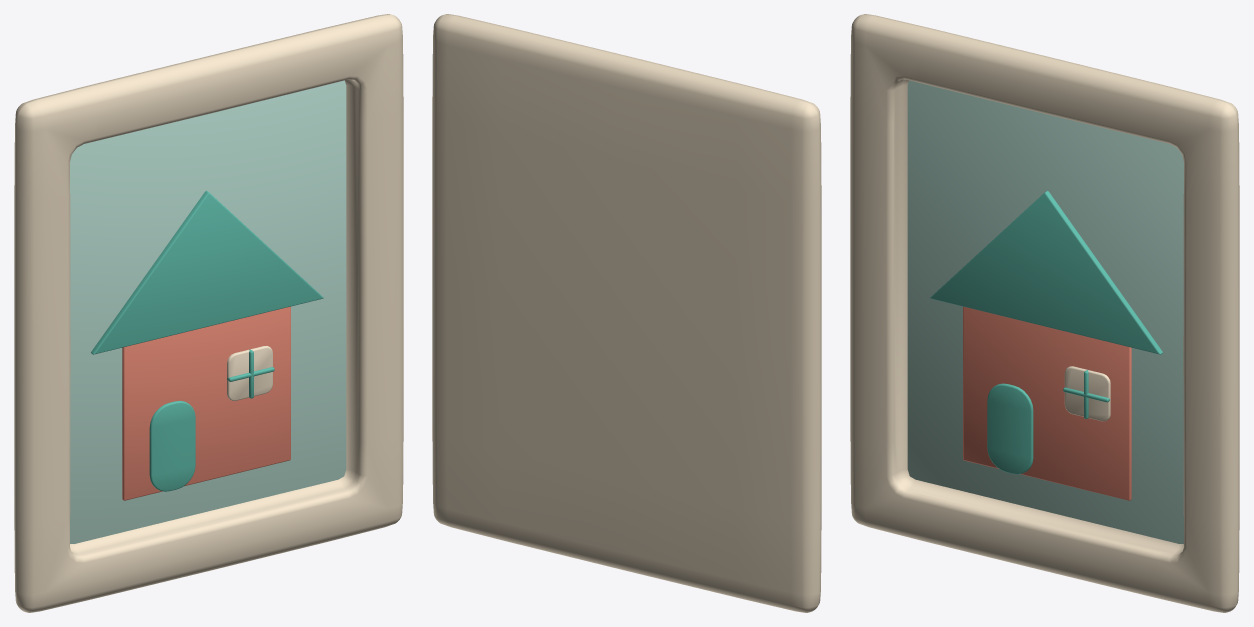
The model's file is poster_c.glb.
3 renders of one model, left to right at view 1: azimuth 30°, elevation 25°; view 2: azimuth 150°, elevation 25°; view 3: azimuth 330°, elevation 25°, orthographic.
Visible parts, largest first — view 1: body; view 2: body; view 3: body.
Part boxes in pixels (x1,y1,x2,y2): body: (14, 14, 403, 612); body: (432, 14, 821, 612); body: (850, 14, 1239, 612).
Size of the model in its own units: 0.6 by 0.76 by 0.0513.
